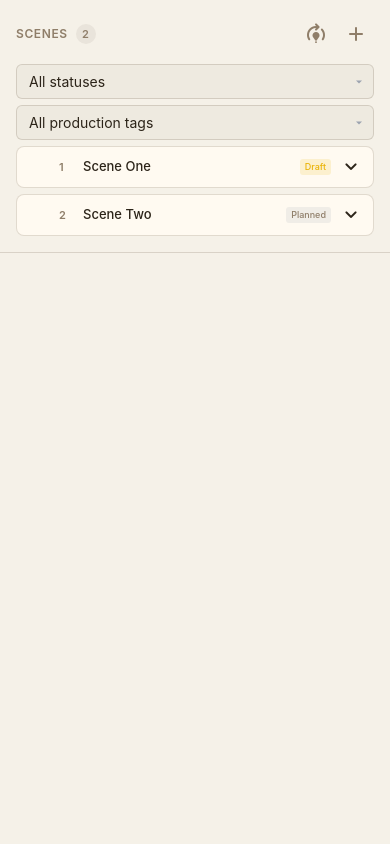
Test: ScenePlanner › expands scene details on header click and shows editing fields
The width and height of the screenshot is (390, 844).
Click the element showing "1 Scene One draft": (117, 166) x1=17 y1=147 x2=373 y2=187
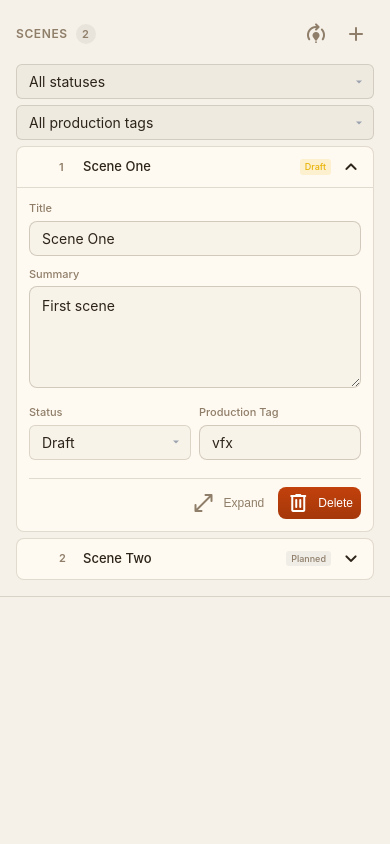
Result: the text "Title" is shown at x1=29 y1=201 x2=52 y2=215
Result: the text "Summary" is shown at x1=29 y1=266 x2=79 y2=280
Result: the text "Status" is shown at x1=29 y1=405 x2=62 y2=419
